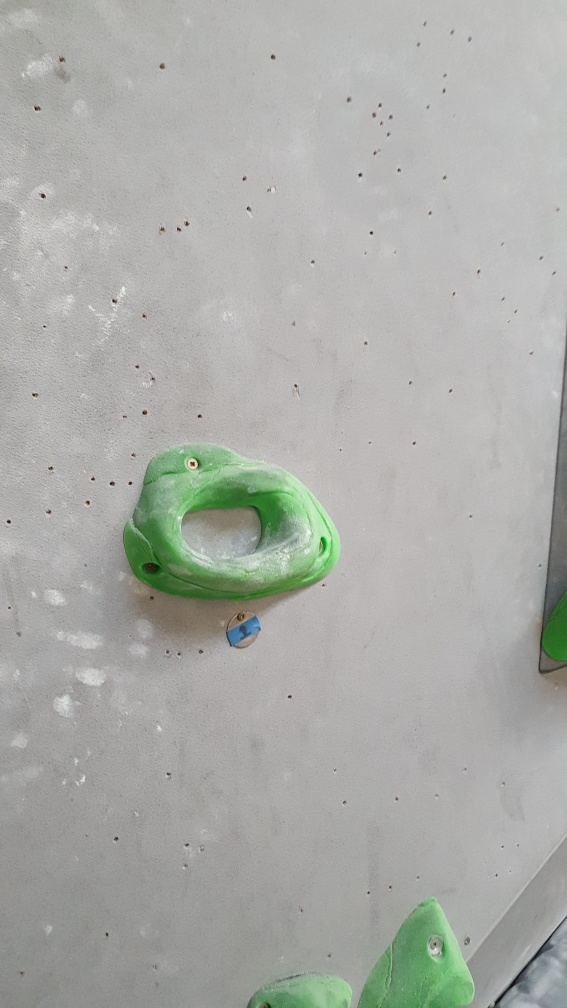Hand Start: (221, 607, 262, 655)
Pocket: (126, 441, 341, 599)
